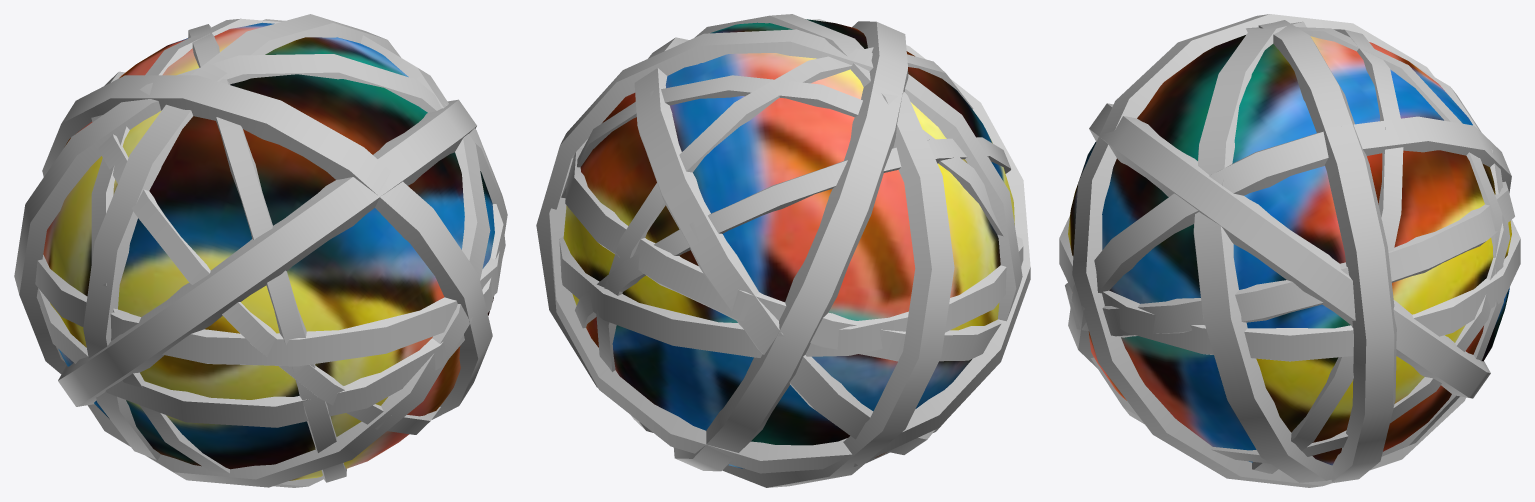
Rendered from Elastic_Ball.fbx.
3 views of the same model, side by side, from view 1: azimuth 30°, elevation 25°; view 2: azimuth 150°, elevation 25°; view 3: azimuth 270°, elevation 25° (orthographic). The views are drawn at different scales.
Parts seen in each view (by area): view 1: Bands, Ball; view 2: Bands, Ball; view 3: Bands, Ball.
Part boxes in pixels (bbox=[...]): Bands: bbox=[14, 14, 507, 487]; Ball: bbox=[43, 22, 494, 480]; Bands: bbox=[536, 14, 1030, 487]; Ball: bbox=[563, 19, 1014, 468]; Bands: bbox=[1059, 14, 1520, 487]; Ball: bbox=[1068, 35, 1511, 465].
Size of the model in its own units: 0.2667 by 0.2638 by 0.2634.
